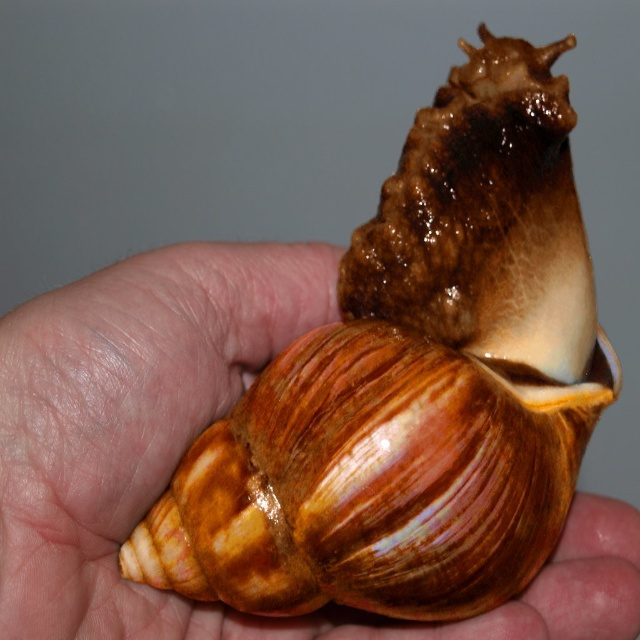Snail: (115, 21, 624, 626)
